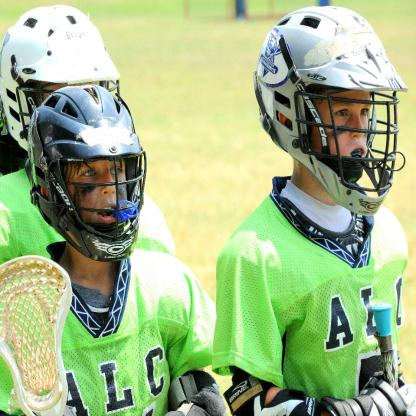Helmet: (252, 2, 406, 213), (29, 84, 146, 264), (0, 3, 119, 150)
